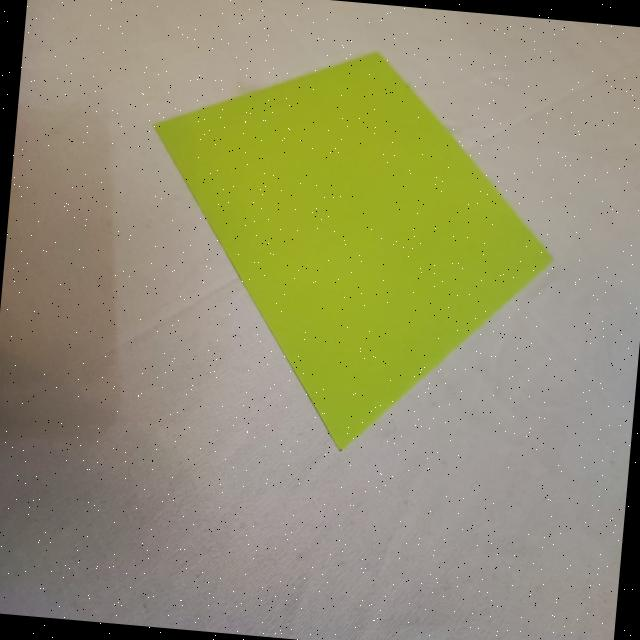Boxes: (152, 52, 555, 453)
